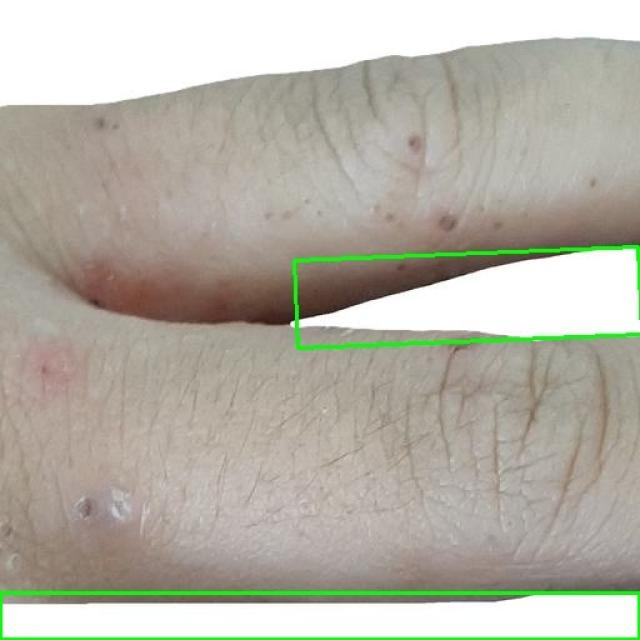Scabies: (295, 247, 640, 348), (0, 592, 639, 639)
